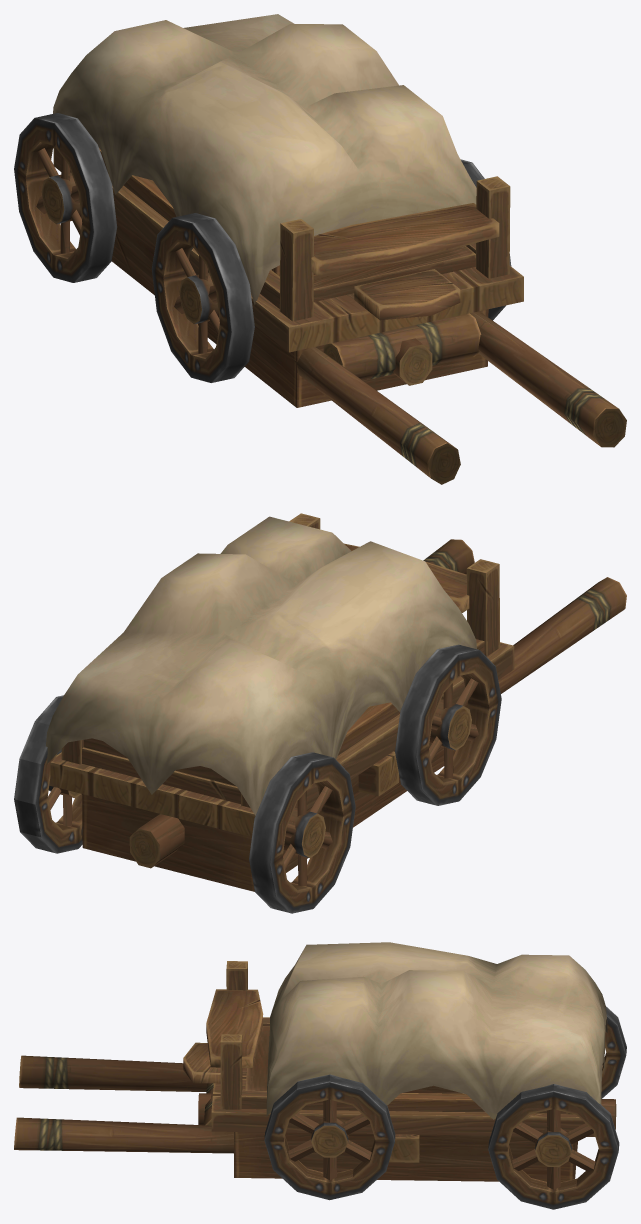
The picture shows the model from 3 angles, top to bottom: view 1: azimuth 30°, elevation 25°; view 2: azimuth 150°, elevation 25°; view 3: azimuth 270°, elevation 25°; orthographic projection. The views are drawn at different scales.
Parts seen in each view (by area): view 1: polySurface1206, wheel001, wheel002; view 2: polySurface1206, wheel002, wheel001; view 3: polySurface1206, wheel002, wheel001.
Boxes of the visible parts, x1,y1,x2,y2 form: polySurface1206: (53,14,626,484); wheel001: (151,159,511,382); wheel002: (14,113,117,282); polySurface1206: (46,513,626,891); wheel002: (14,695,355,913); wheel001: (395,644,501,805); polySurface1206: (14,942,616,1181); wheel002: (488,1006,626,1209); wheel001: (264,1074,395,1200).
Bounding box in the file's own units: 4.74 × 4.11 × 11.38.
1 material, 1 textured.
